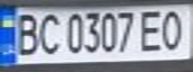0: (100, 9, 121, 53), (63, 10, 84, 54)
3: (81, 9, 103, 54)
7: (115, 8, 139, 54)
B: (9, 10, 42, 56)
C: (33, 11, 63, 56)
E: (136, 7, 166, 53)
O: (157, 7, 190, 52)
